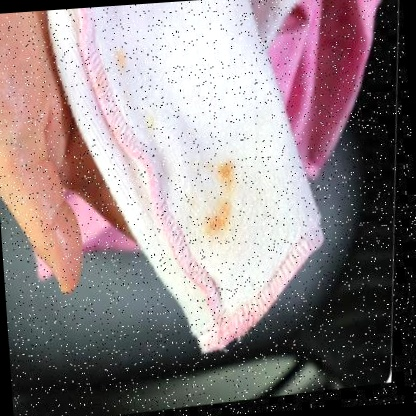kimchi: (199, 203, 241, 242), (212, 154, 245, 190), (105, 46, 120, 70)
